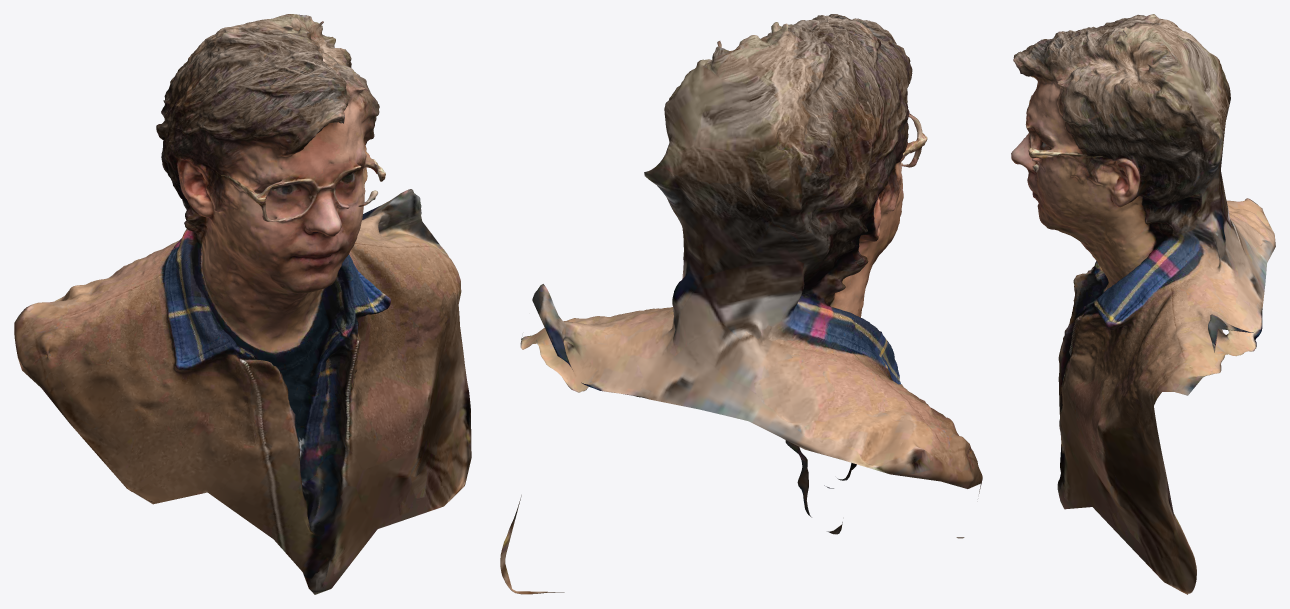
Rendered from poly_comp2.glb.
The picture shows the model from 3 angles, left to right: view 1: azimuth 30°, elevation 25°; view 2: azimuth 150°, elevation 25°; view 3: azimuth 270°, elevation 25°; orthographic projection. The views are drawn at different scales.
Size of the model in its own units: 1.13 by 1.34 by 0.6734.
1 material, 1 textured.
